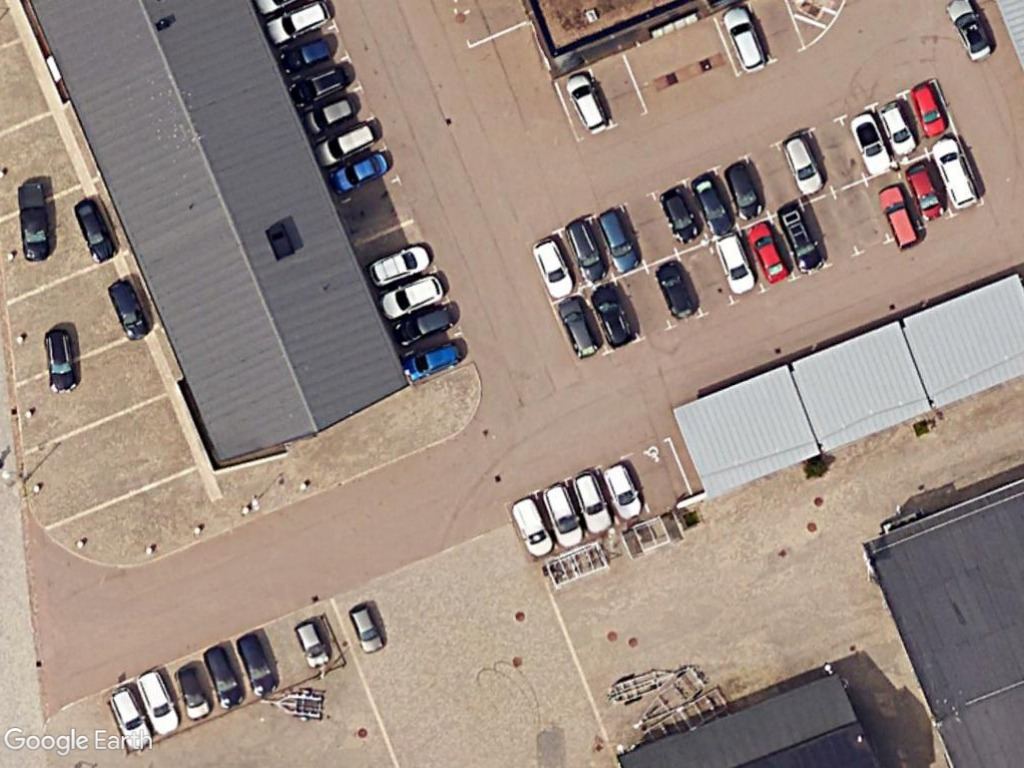car: (774, 198, 828, 282), (927, 136, 976, 212), (70, 197, 121, 268), (392, 297, 459, 351), (595, 203, 644, 276), (313, 117, 380, 170), (744, 217, 794, 288), (368, 239, 437, 290), (326, 147, 393, 199), (379, 269, 446, 321), (846, 108, 895, 179), (720, 4, 769, 75), (132, 666, 180, 738), (541, 480, 589, 552), (286, 58, 352, 110), (876, 183, 925, 253), (508, 493, 559, 559), (401, 335, 469, 384), (105, 277, 155, 343), (554, 292, 601, 362), (231, 629, 279, 697), (588, 282, 635, 351), (265, 0, 335, 46), (691, 173, 739, 240), (780, 132, 827, 200), (531, 234, 578, 302), (106, 687, 155, 751), (565, 71, 613, 136), (565, 217, 608, 289), (201, 640, 245, 710), (572, 466, 616, 536), (712, 233, 758, 298), (902, 162, 949, 223), (42, 329, 83, 398), (657, 186, 704, 246), (299, 92, 360, 138), (604, 462, 649, 524), (655, 258, 698, 322), (723, 162, 767, 224), (875, 99, 920, 159), (278, 29, 336, 75), (172, 661, 214, 724), (910, 81, 950, 142), (349, 603, 388, 657), (294, 620, 333, 670)
other: (11, 179, 57, 266)
